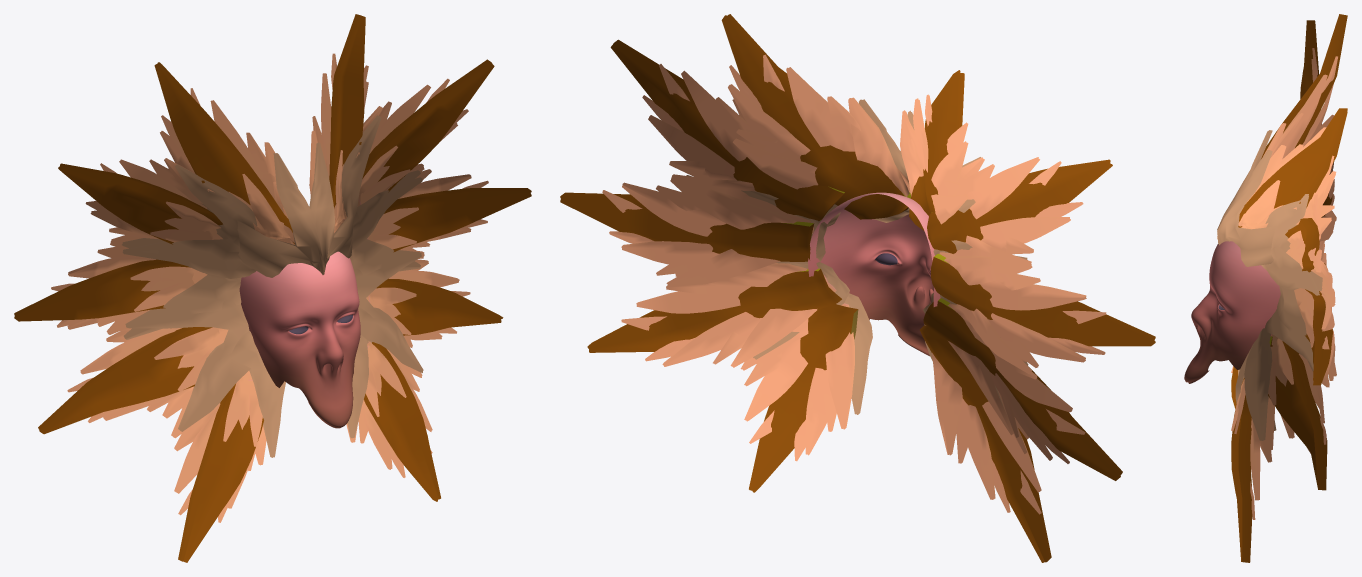
The model's file is Mask_Normal8.glb.
The picture shows the model from 3 angles, left to right: view 1: azimuth 30°, elevation 25°; view 2: azimuth 150°, elevation 25°; view 3: azimuth 270°, elevation 25°; orthographic projection. The views are drawn at different scales.
Parts seen in each view (by area): view 1: BézierCurve.001, Female Average Head; view 2: BézierCurve.001, Female Average Head; view 3: BézierCurve.001, Female Average Head.
Part boxes in pixels (x1,y1,x2,y2): BézierCurve.001: (14, 14, 531, 562); Female Average Head: (239, 251, 360, 428); BézierCurve.001: (560, 14, 1155, 562); Female Average Head: (808, 192, 940, 356); BézierCurve.001: (1217, 14, 1347, 562); Female Average Head: (1184, 241, 1280, 383).
Bounding box in the file's own units: 0.6544 × 0.5562 × 0.1863.
Materials: 2 (2 with a texture image).
